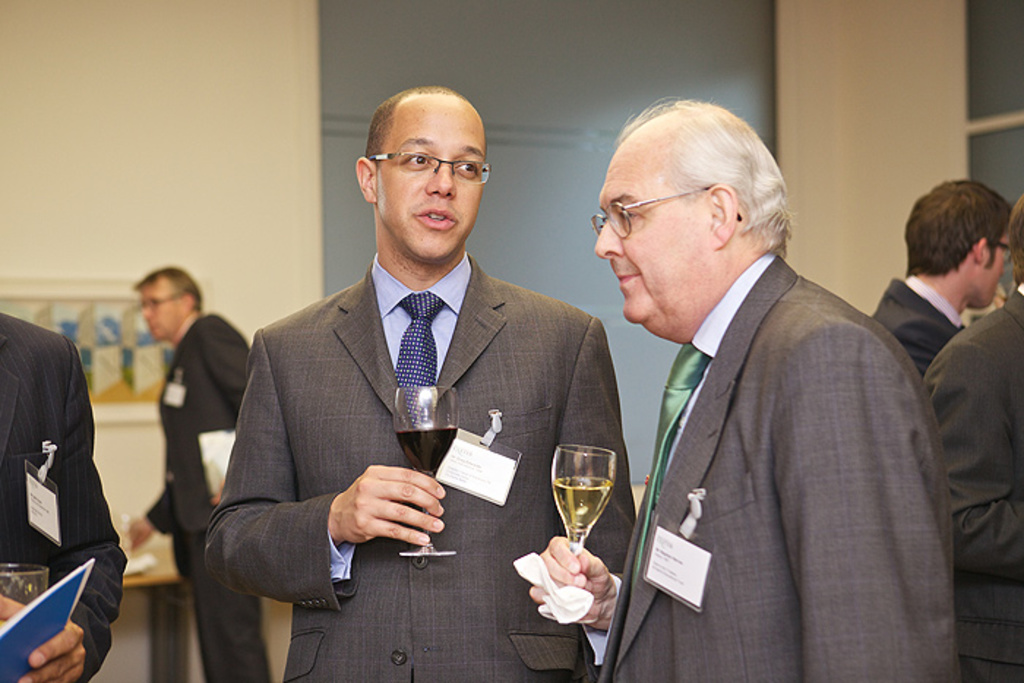Human-face: (595, 142, 705, 317), (377, 99, 483, 260), (985, 233, 1014, 307), (139, 287, 177, 341)
